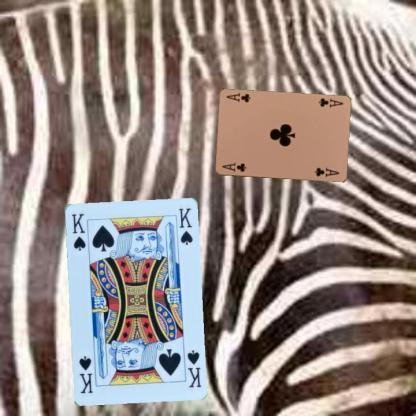Ac: (220, 160, 247, 174), (315, 96, 344, 109)
Ks: (68, 210, 87, 252), (184, 348, 202, 388)
